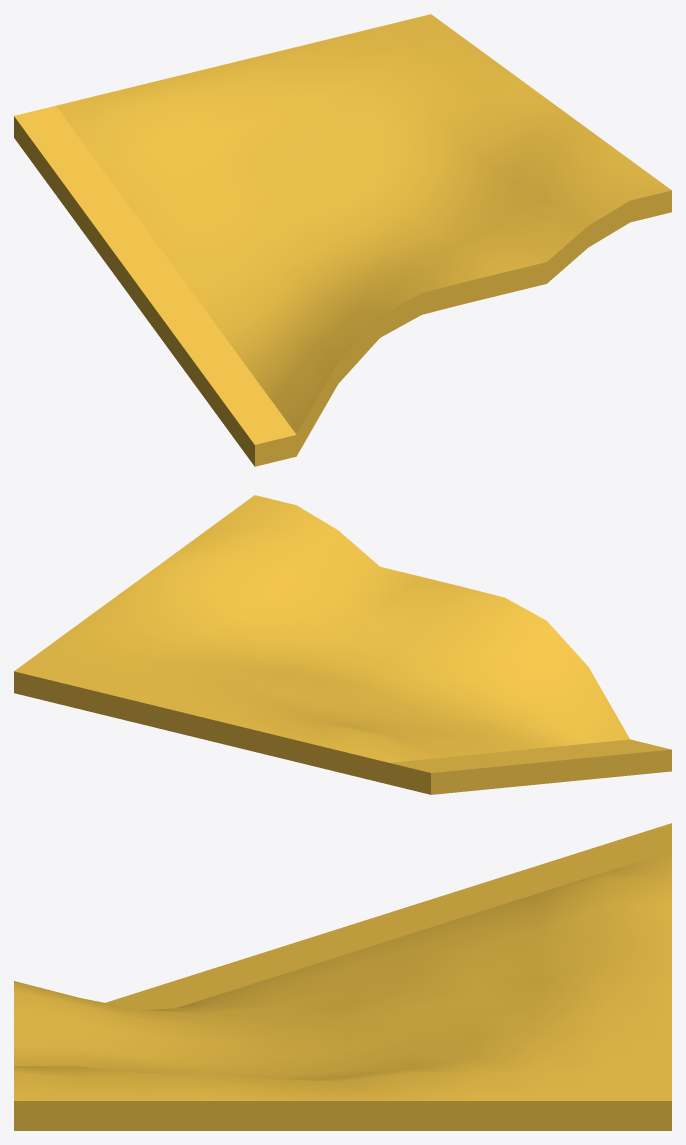
File: Flach - Mitte - Ecke Invertiert x - b.fbx
3 renders of one model, top to bottom at view 1: azimuth 30°, elevation 25°; view 2: azimuth 150°, elevation 25°; view 3: azimuth 270°, elevation 25°, orthographic. The views are drawn at different scales.
Visible parts, largest first — view 1: Flach - Mitte - Ecke Invertiert x - b; view 2: Flach - Mitte - Ecke Invertiert x - b; view 3: Flach - Mitte - Ecke Invertiert x - b.
Boxes of the visible parts, left/top/right/bottom form: Flach - Mitte - Ecke Invertiert x - b: left=14, top=14, right=671, bottom=466; Flach - Mitte - Ecke Invertiert x - b: left=14, top=495, right=671, bottom=794; Flach - Mitte - Ecke Invertiert x - b: left=14, top=823, right=671, bottom=1130.
Size of the model in its own units: 394 by 157 by 394.
